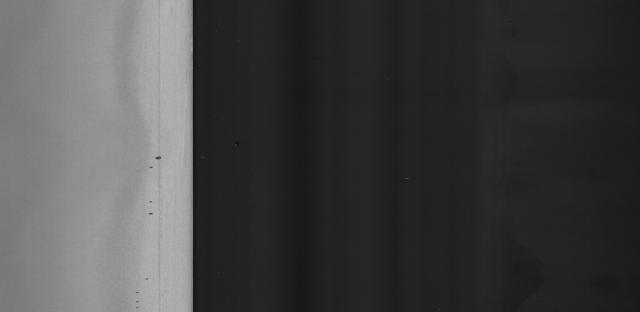oil_spot: (150, 142, 168, 171), (142, 206, 165, 222)
